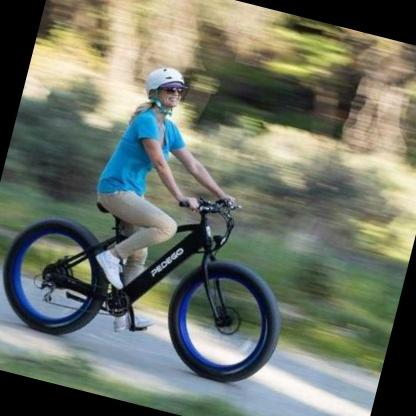Bicycle: (0, 172, 293, 395)
